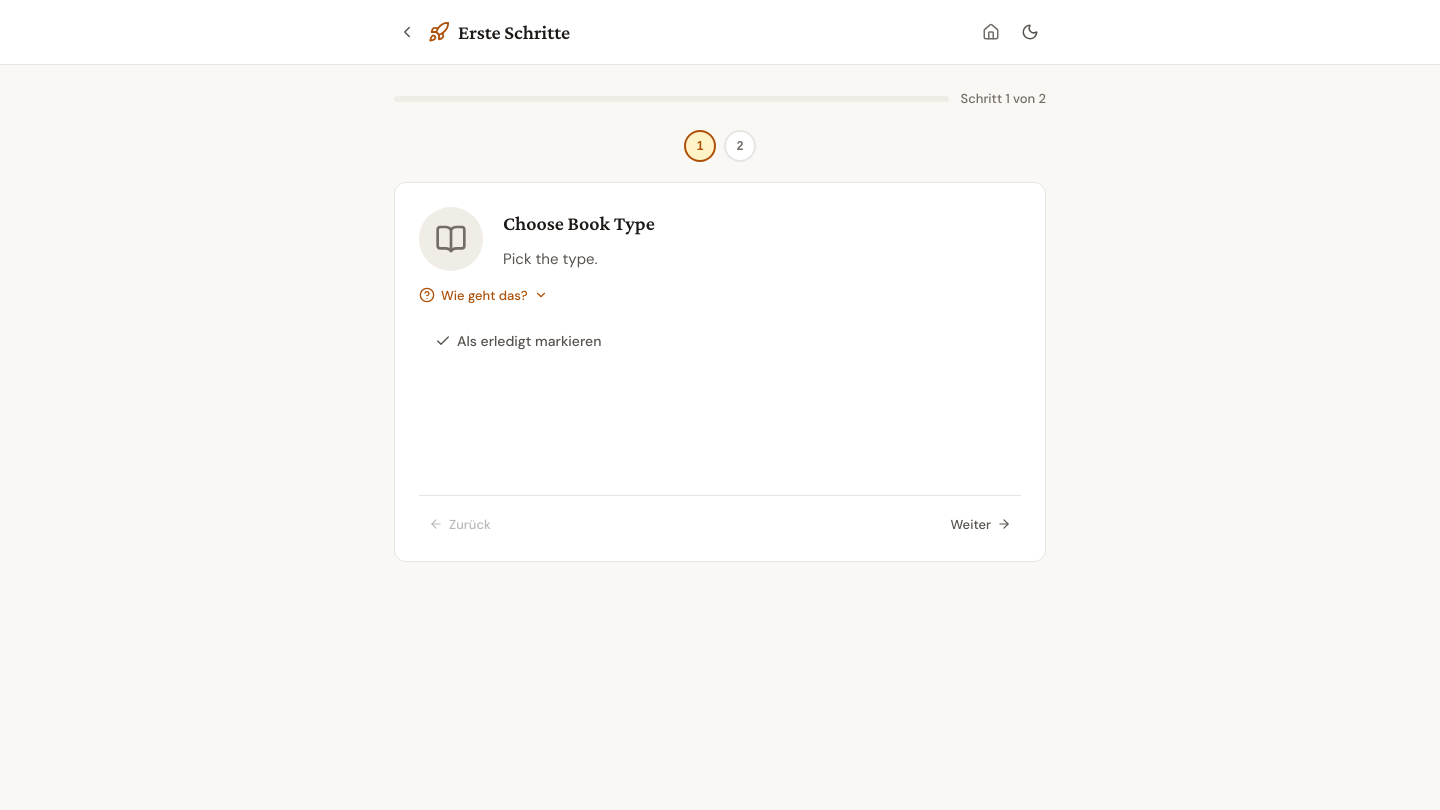
it: GetStarted multi-book-type onboarding (C4) › the create-book step surfaces a 3-button sample row
Expected: the heading "Choose Book Type" is shown, [503, 212, 655, 234]
Navigate to create-book step (#2 in fakeSteps).
Click the button "2" at (740,146), box [724, 130, 756, 162]
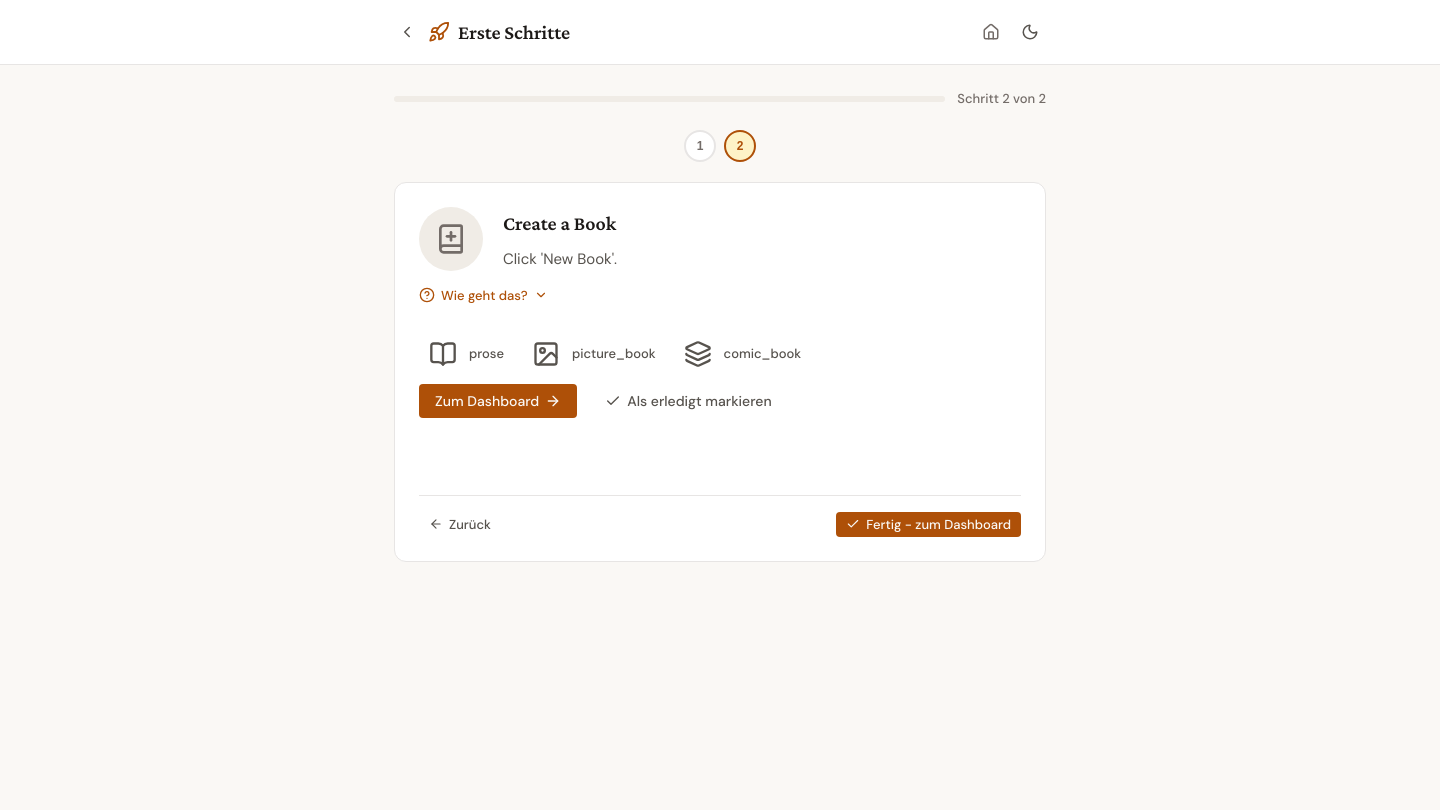
Expected: the element with test id "getstarted-sample-button-row" is shown, [419, 336, 811, 372]
Expected: the button with test id "getstarted-sample-prose" is shown, [419, 336, 514, 372]
Expected: the button with test id "getstarted-sample-picture_book" is shown, [522, 336, 666, 372]
